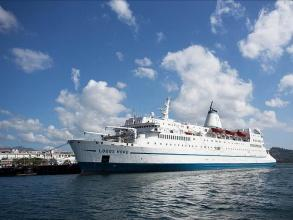youlun: (64, 98, 277, 176)
